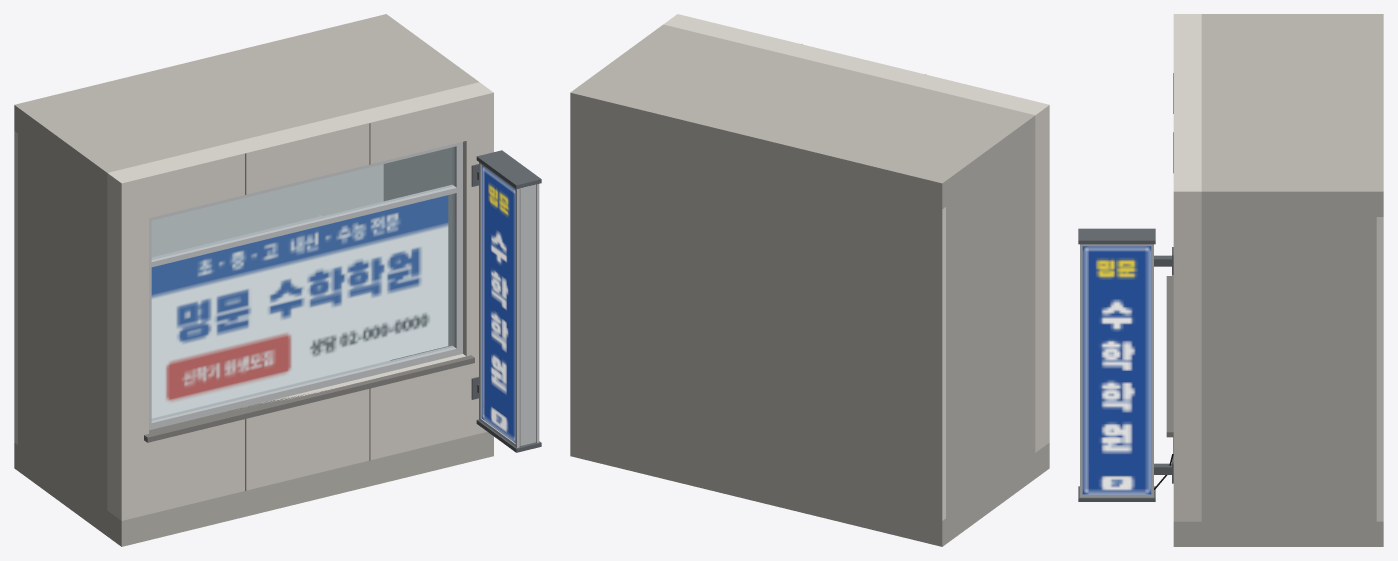
The model's file is SC_Shop_Academy_2F.gltf.
3 renders of one model, left to right at view 1: azimuth 30°, elevation 25°; view 2: azimuth 150°, elevation 25°; view 3: azimuth 270°, elevation 25°, orthographic. The views are drawn at different scales.
Visible parts, largest first — view 1: SC_Shop_Academy_2F; view 2: SC_Shop_Academy_2F; view 3: SC_Shop_Academy_2F.
Part boxes in pixels (bbox=[...]): SC_Shop_Academy_2F: bbox=[14, 14, 541, 546]; SC_Shop_Academy_2F: bbox=[570, 14, 1049, 546]; SC_Shop_Academy_2F: bbox=[1078, 14, 1383, 546].
Size of the model in its own units: 3 by 2.8 by 2.18.
Materials: 4 (4 with a texture image).
